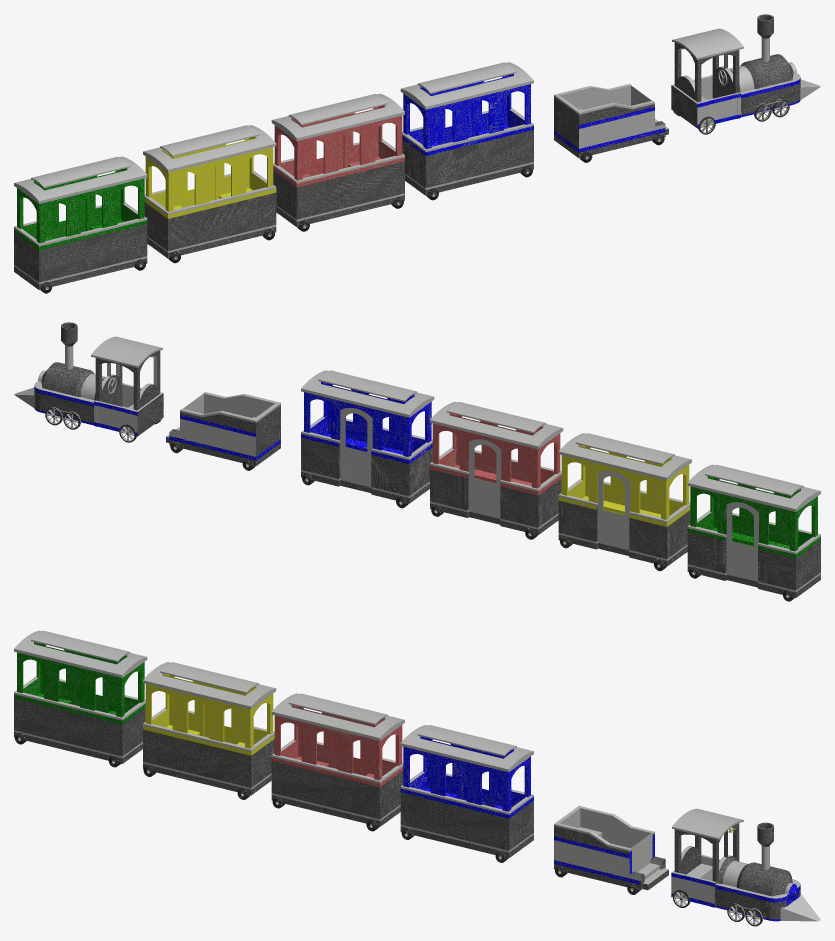
3 views of the same model, one above another, from view 1: azimuth 30°, elevation 25°; view 2: azimuth 150°, elevation 25°; view 3: azimuth 330°, elevation 25° (orthographic).
Visible parts, largest first — view 1: Group_12 (×8), Group_11 (×8), Group_10 (×8), Group_6 (×8), group_1 (×6), group_5 (×3); view 2: Group_12 (×7), Group_10 (×7), Group_6 (×7), Group_11 (×7), group_1 (×6), group_5 (×3); view 3: Group_6 (×8), Group_10 (×8), Group_11 (×8), Group_12 (×7), group_1 (×6), group_5 (×3).
Part boxes in pixels (left/top/right/bottom): Group_12 (×8): left=14, top=156, right=147, bottom=286; Group_11 (×8): left=143, top=125, right=276, bottom=255; Group_10 (×8): left=271, top=93, right=404, bottom=223; Group_6 (×8): left=400, top=62, right=533, bottom=192; group_1 (×6): left=671, top=28, right=800, bottom=127; group_5 (×3): left=554, top=84, right=668, bottom=148; Group_12 (×7): left=687, top=464, right=820, bottom=594; Group_10 (×7): left=430, top=401, right=563, bottom=531; Group_6 (×7): left=301, top=370, right=434, bottom=500; Group_11 (×7): left=558, top=433, right=691, bottom=563; group_1 (×6): left=34, top=336, right=163, bottom=435; group_5 (×3): left=166, top=392, right=280, bottom=456; Group_6 (×8): left=400, top=725, right=533, bottom=854; Group_10 (×8): left=271, top=693, right=404, bottom=823; Group_11 (×8): left=143, top=662, right=276, bottom=791; Group_12 (×7): left=14, top=630, right=147, bottom=758; group_1 (×6): left=671, top=808, right=820, bottom=921; group_5 (×3): left=554, top=806, right=668, bottom=884.
Size of the model in its own units: 878 by 56 by 110.
